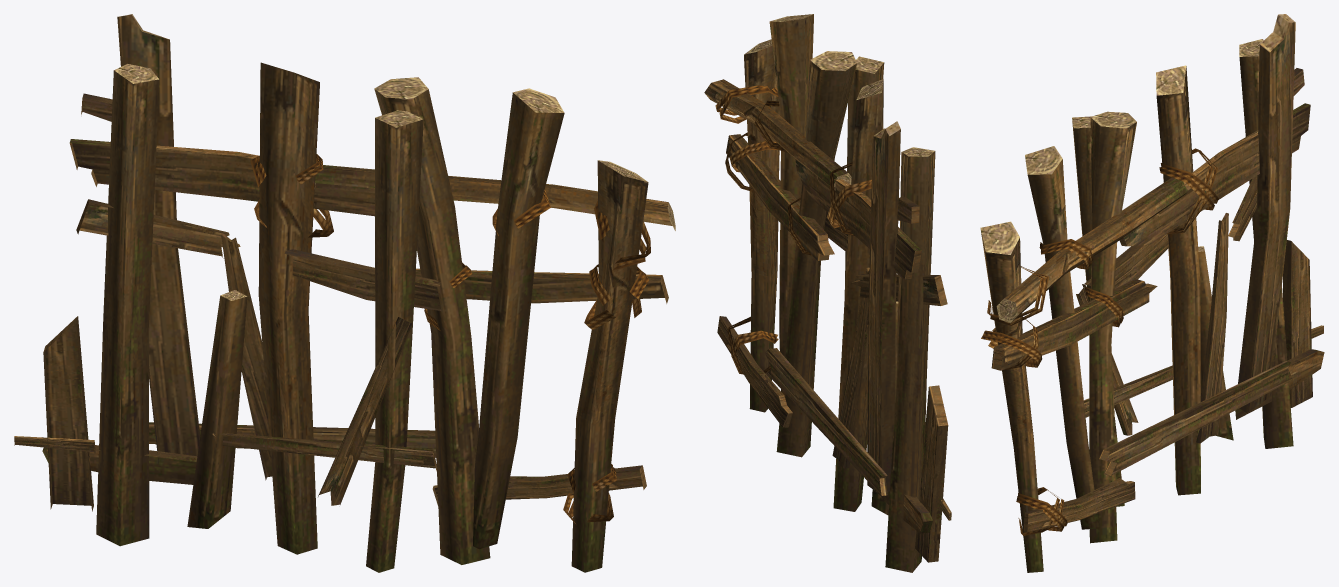
The model's file is 1004_Item_zhalan_1.FBX.
The picture shows the model from 3 angles, left to right: view 1: azimuth 30°, elevation 25°; view 2: azimuth 150°, elevation 25°; view 3: azimuth 270°, elevation 25°; orthographic projection. The views are drawn at different scales.
Visible parts, largest first — view 1: 1004_Item_zhalan_1; view 2: 1004_Item_zhalan_1; view 3: 1004_Item_zhalan_1.
Boxes of the visible parts, left/top/right/bottom form: 1004_Item_zhalan_1: left=14, top=14, right=675, bottom=572; 1004_Item_zhalan_1: left=704, top=14, right=951, bottom=572; 1004_Item_zhalan_1: left=980, top=14, right=1324, bottom=572.
Bounding box in the file's own units: 163 × 124 × 171.
